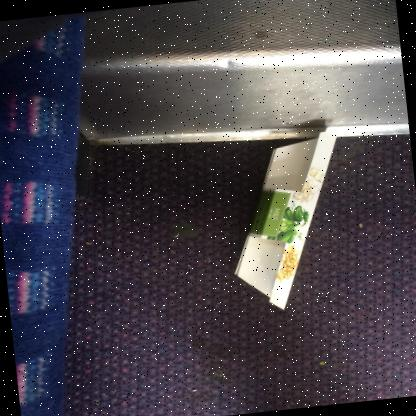Meal carton: (234, 129, 338, 309)
